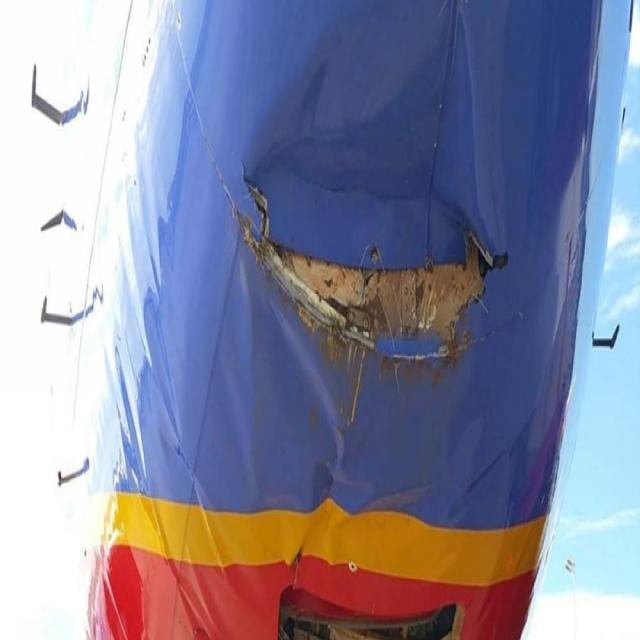crack: (218, 148, 521, 398)
